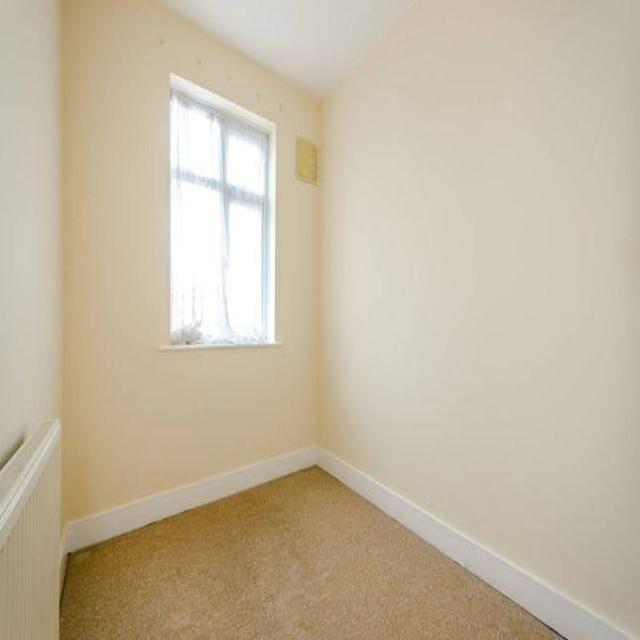Wall: (320, 3, 640, 637), (62, 0, 319, 523), (60, 467, 556, 639), (0, 0, 62, 468), (62, 449, 316, 552), (161, 1, 413, 97), (276, 99, 296, 278)
